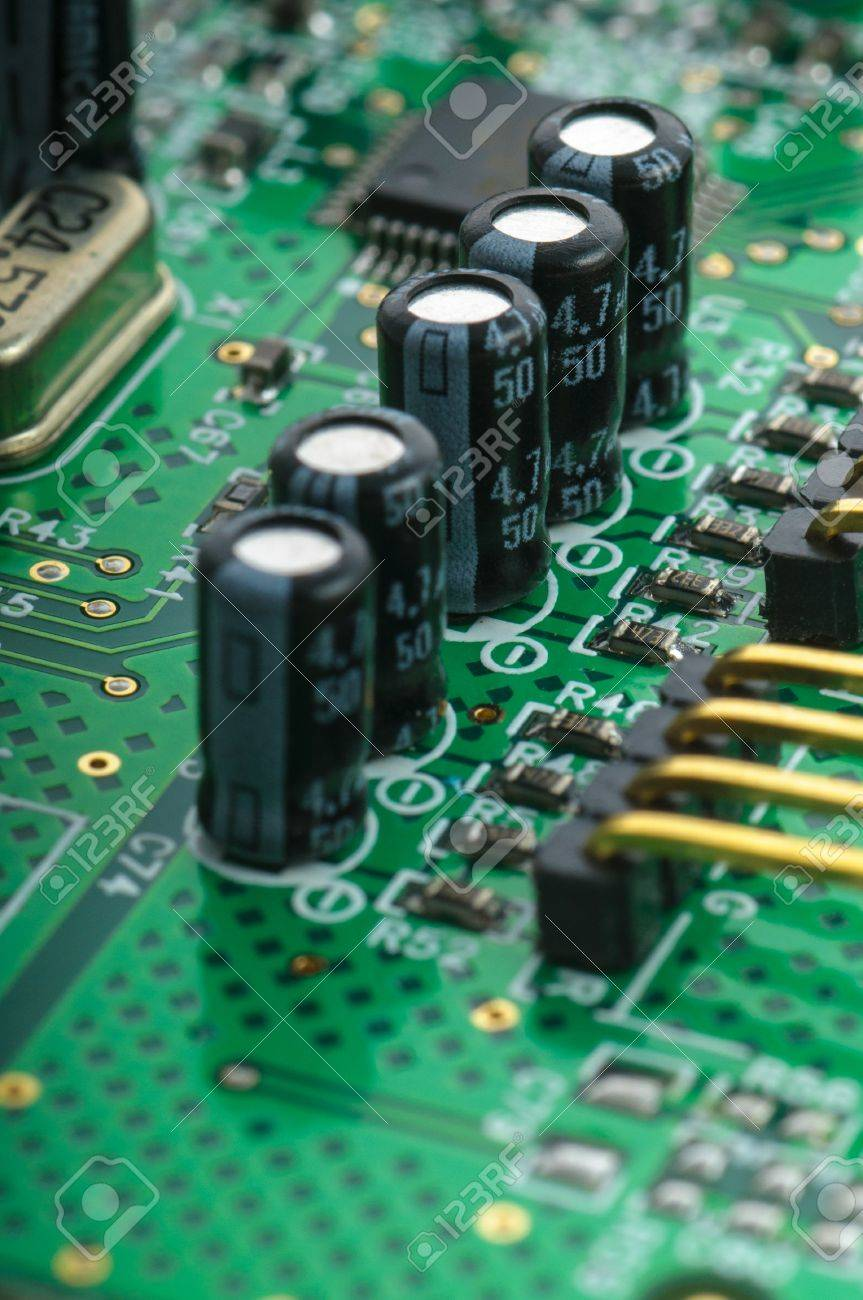capacitor: (162, 494, 395, 918), (248, 401, 471, 782), (512, 75, 733, 450), (375, 243, 568, 642), (466, 173, 651, 529)
